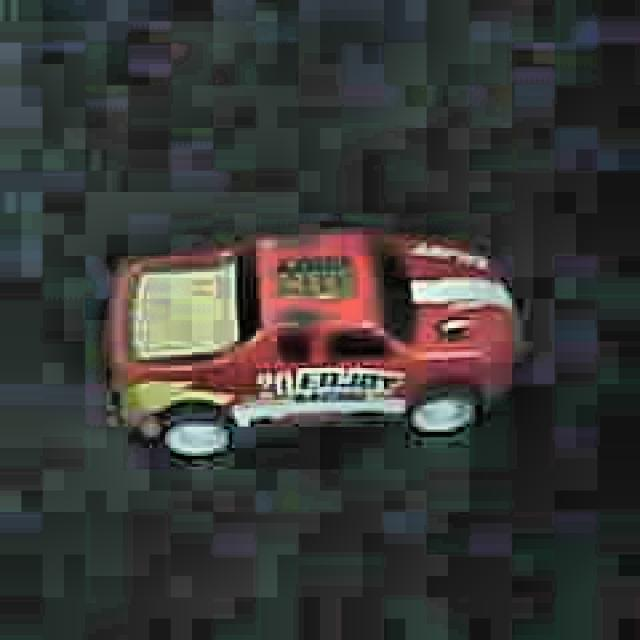car: (98, 223, 521, 472)
